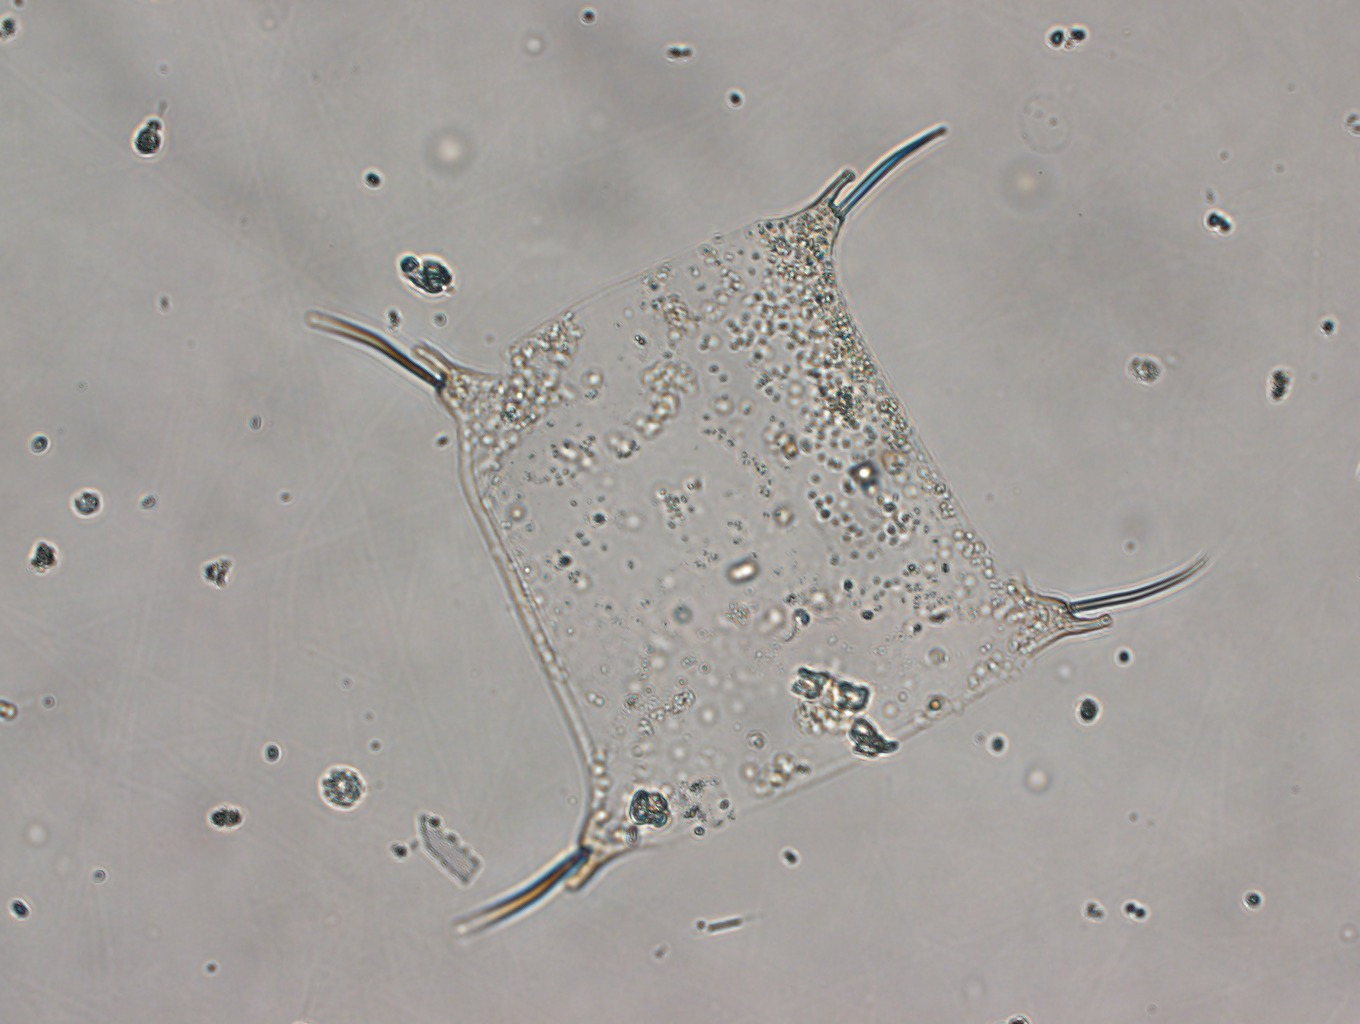biddulphia: (303, 123, 1209, 941)
